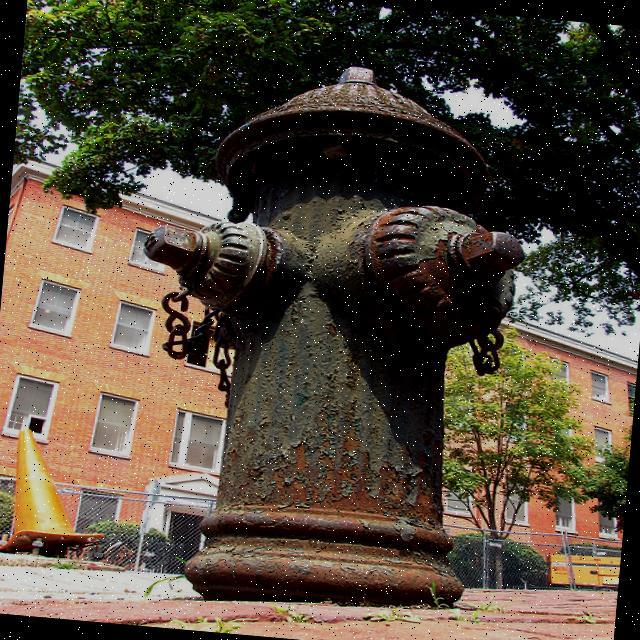fire_hydrant: (111, 41, 540, 624)
